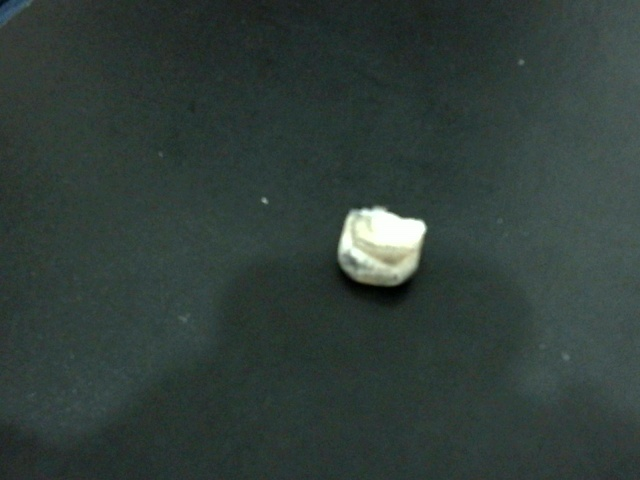eraser: (320, 191, 453, 293)
